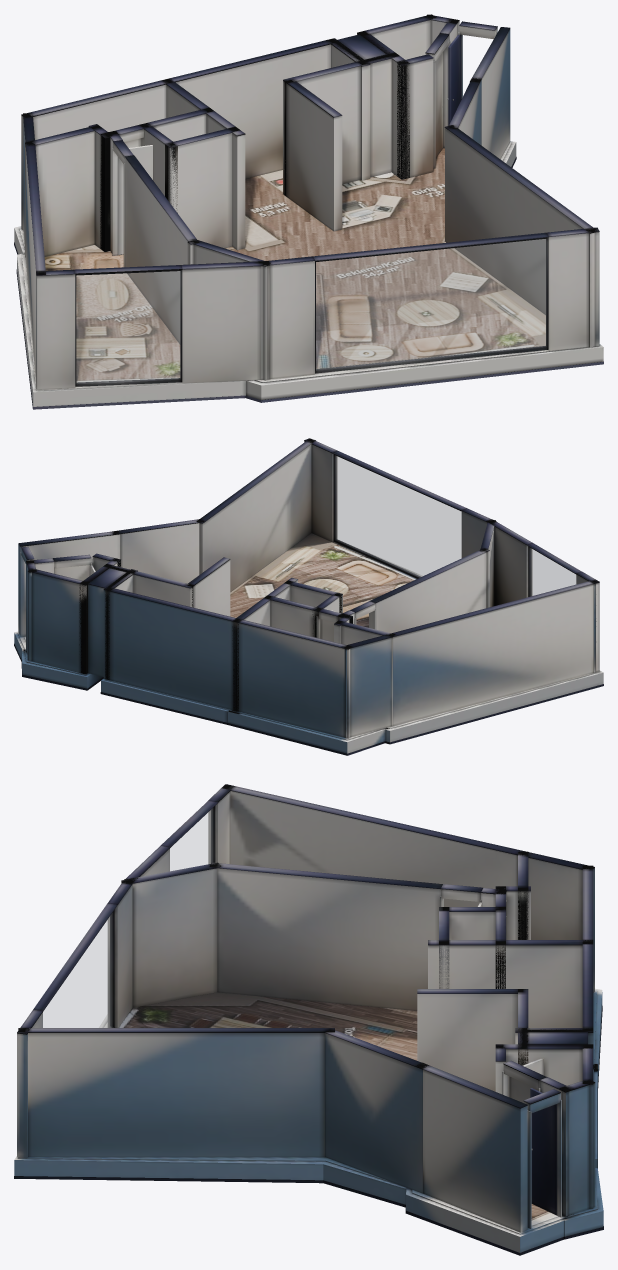
The picture shows the model from 3 angles, top to bottom: view 1: azimuth 30°, elevation 25°; view 2: azimuth 150°, elevation 25°; view 3: azimuth 270°, elevation 25°; orthographic projection. The views are drawn at different scales.
Parts seen in each view (by area): view 1: plan, glass1_m, glass0_m; view 2: plan, glass1_m, glass0_m; view 3: plan, glass1_m, glass0_m.
Boxes of the visible parts, left/top/right/bottom form: plan: left=14, top=14, right=603, bottom=409; glass1_m: left=316, top=239, right=546, bottom=369; glass0_m: left=76, top=271, right=180, bottom=382; plan: left=14, top=438, right=603, bottom=755; glass1_m: left=336, top=456, right=461, bottom=576; glass0_m: left=530, top=548, right=575, bottom=596; plan: left=14, top=784, right=603, bottom=1255; glass1_m: left=43, top=914, right=111, bottom=1027; glass0_m: left=170, top=809, right=212, bottom=870.
Size of the model in its own units: 12.82 by 2.62 by 9.7.
2 materials, 1 textured.
